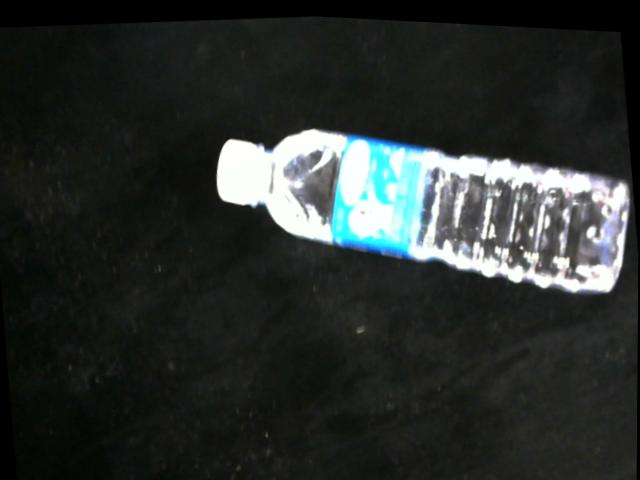bottle: (213, 123, 632, 291)
